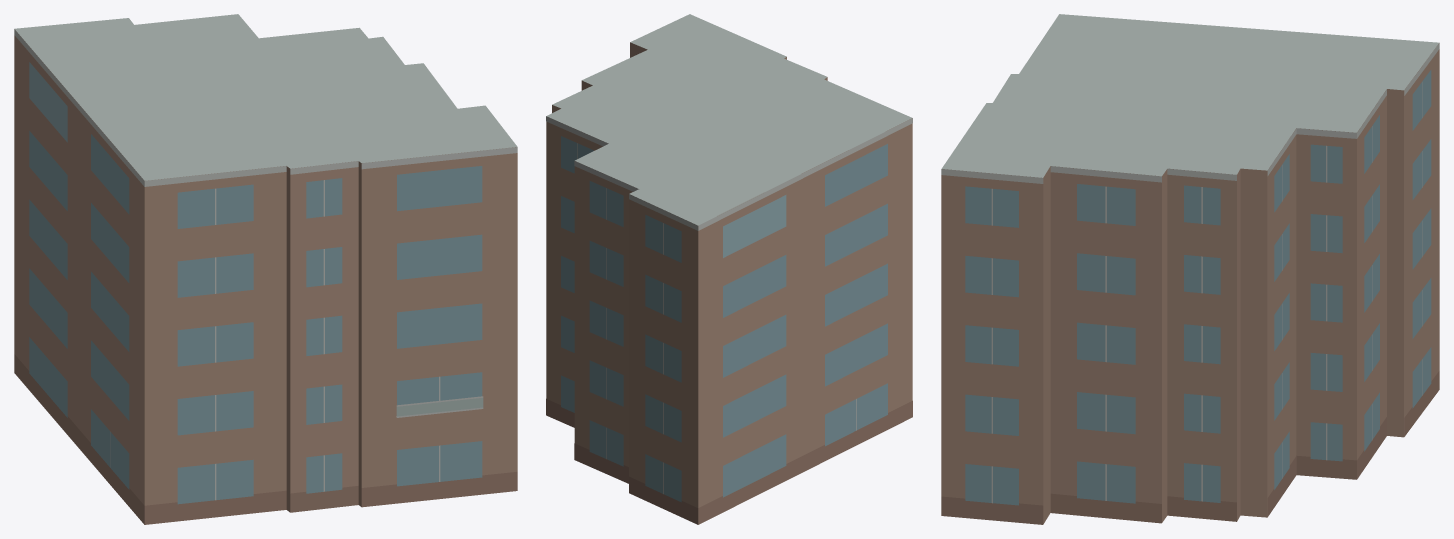
Rendered from survey-upis-32821169.glb.
The picture shows the model from 3 angles, left to right: view 1: azimuth 30°, elevation 25°; view 2: azimuth 150°, elevation 25°; view 3: azimuth 270°, elevation 25°; orthographic projection. The views are drawn at different scales.
Parts seen in each view (by area): view 1: survey-upis-32821169.tmp; view 2: survey-upis-32821169.tmp; view 3: survey-upis-32821169.tmp.
Boxes of the visible parts, bbox=[...] form: survey-upis-32821169.tmp: bbox=[14, 14, 517, 524]; survey-upis-32821169.tmp: bbox=[546, 14, 912, 524]; survey-upis-32821169.tmp: bbox=[941, 14, 1439, 524].
Size of the model in its own units: 13.89 by 13.7 by 17.83.
